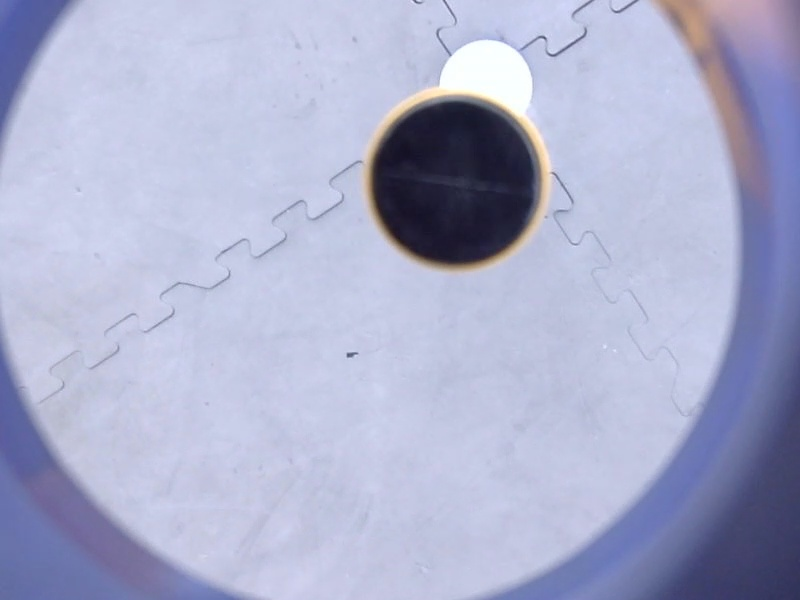tip: (354, 78, 561, 287)
